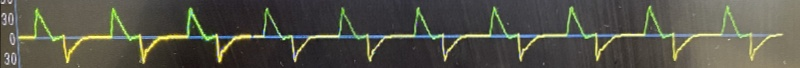normal_flow: (10, 0, 797, 68)
